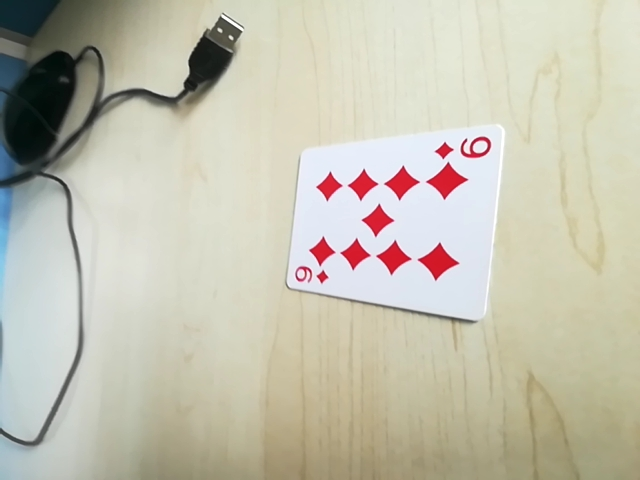fk 9: (432, 129, 495, 162), (292, 261, 334, 291)
